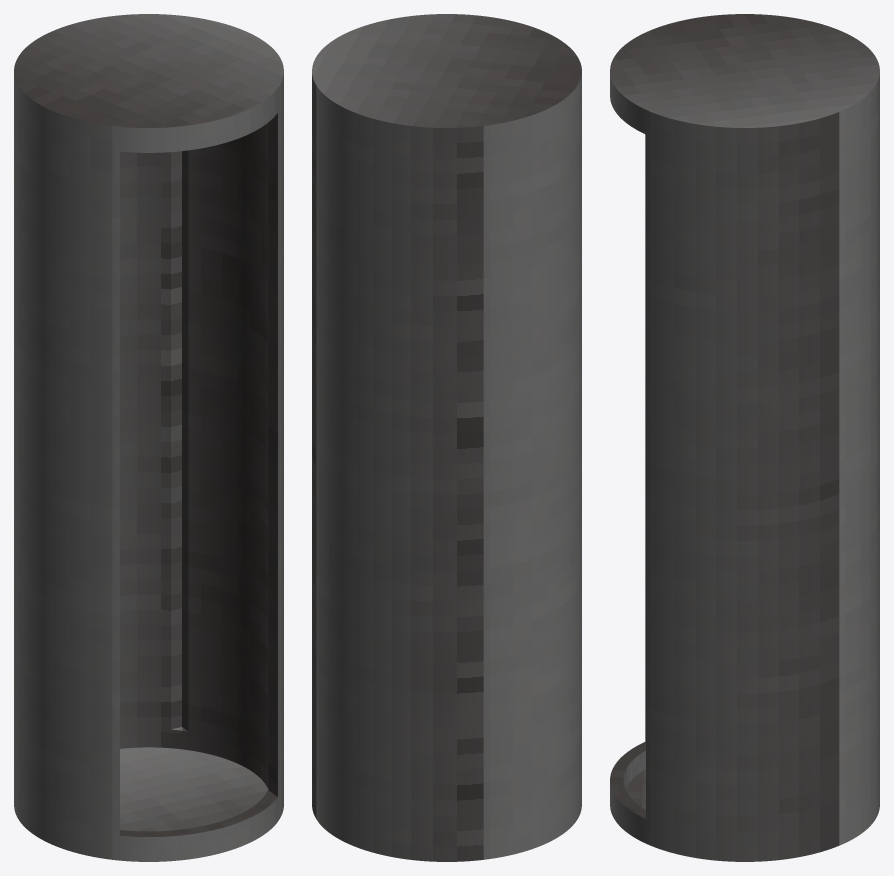
The model's file is scanner.obj.
3 views of the same model, side by side, from view 1: azimuth 30°, elevation 25°; view 2: azimuth 150°, elevation 25°; view 3: azimuth 270°, elevation 25° (orthographic).
Visible parts, largest first — view 1: scanner.001; view 2: scanner.001; view 3: scanner.001.
Part boxes in pixels (<box>): scanner.001: <box>14,14,283,861</box>; scanner.001: <box>312,14,581,861</box>; scanner.001: <box>610,14,879,861</box>.
Bounding box in the file's own units: 1.12 × 3.37 × 1.12.
